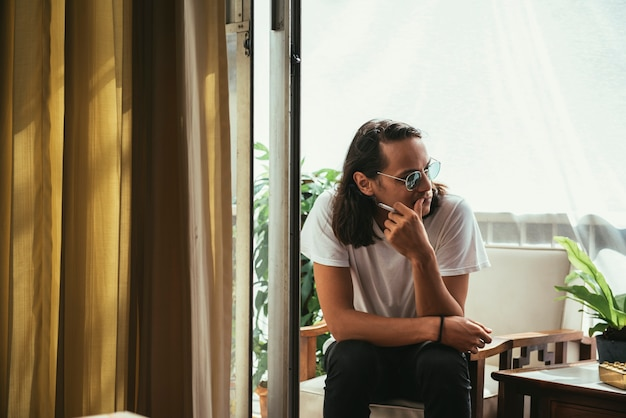cigarette: (377, 203, 398, 214)
